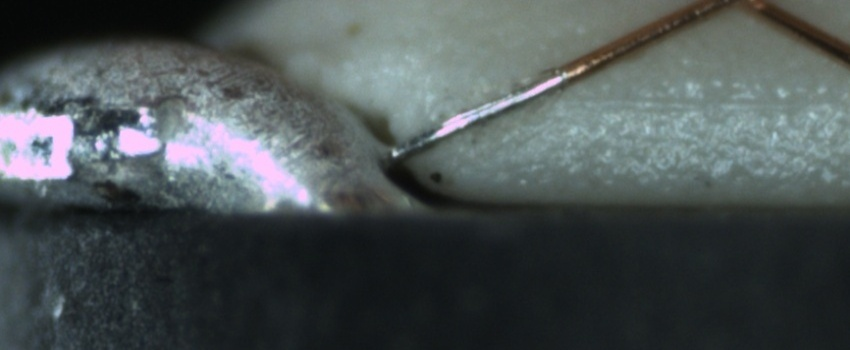CL: (699, 0, 784, 18)
DL: (566, 73, 849, 137)
TS: (389, 68, 568, 160)
